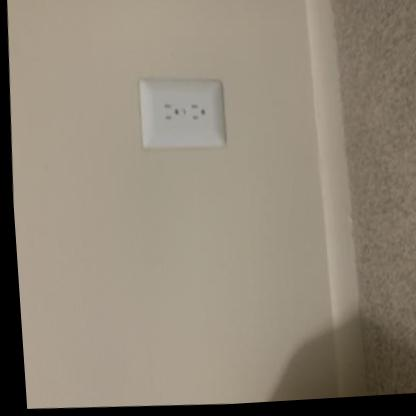OUTLET: (136, 72, 229, 154)
